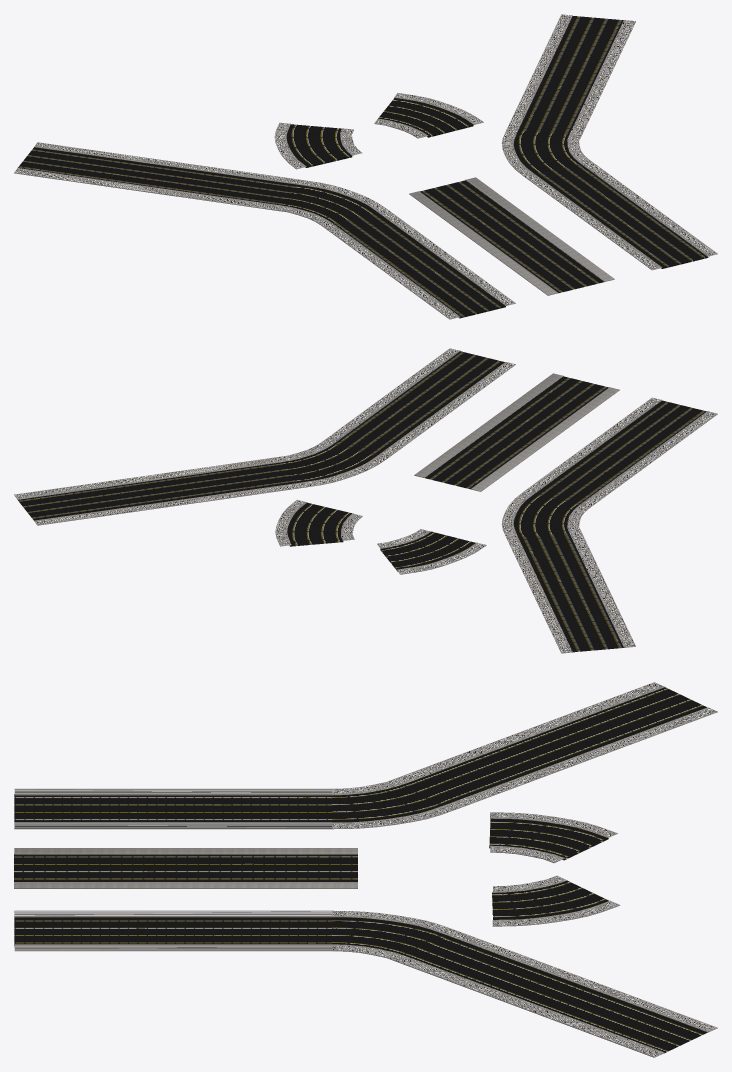
Rendered from Calles Correjidas.FBX.
3 renders of one model, top to bottom at view 1: azimuth 30°, elevation 25°; view 2: azimuth 150°, elevation 25°; view 3: azimuth 270°, elevation 25°, orthographic. The views are drawn at different scales.
Parts seen in each view (by area): view 1: Plane003, Plane005, Plane009, Plane004, Plane007, Calle Recta + Curva Izquierda + calle Recta, Calle Recta + Curva Derecha + calle Recta, ChamferBox034, ChamferBox035, Plane010, Plane011, Plane006 (+6 smaller); view 2: Plane003, Plane009, Plane005, Plane004, Plane007, Calle Recta + Curva Derecha + calle Recta, Calle Recta + Curva Izquierda + calle Recta, ChamferBox035, ChamferBox034, Plane011, Plane010, Plane006 (+6 smaller); view 3: Plane003, Plane005, Plane009, Plane007, Plane004, Calle Recta + Curva Izquierda + calle Recta, Calle Recta + Curva Derecha + calle Recta, ChamferBox035, ChamferBox034, Plane010, Plane008, Plane006 (+6 smaller).
Boxes of the visible parts, left/top/right/bottom form: Plane003: left=420, top=180, right=603, bottom=293; Plane005: left=18, top=147, right=297, bottom=205; Plane009: left=518, top=16, right=623, bottom=135; Plane004: left=333, top=212, right=505, bottom=318; Plane007: left=534, top=163, right=708, bottom=268; Calle Recta + Curva Izquierda + calle Recta: left=14, top=142, right=386, bottom=225; Calle Recta + Curva Derecha + calle Recta: left=501, top=14, right=635, bottom=175; ChamferBox034: left=321, top=209, right=515, bottom=319; ChamferBox035: left=523, top=159, right=717, bottom=270; Plane010: left=286, top=124, right=352, bottom=167; Plane011: left=378, top=98, right=473, bottom=137; Plane006: left=281, top=185, right=376, bottom=222; Plane003: left=425, top=376, right=608, bottom=489; Plane009: left=18, top=462, right=296, bottom=520; Plane005: left=518, top=532, right=624, bottom=652; Plane004: left=534, top=400, right=706, bottom=505; Plane007: left=333, top=351, right=504, bottom=456; Calle Recta + Curva Derecha + calle Recta: left=14, top=442, right=387, bottom=525; Calle Recta + Curva Izquierda + calle Recta: left=501, top=491, right=635, bottom=653; ChamferBox035: left=321, top=348, right=515, bottom=458; ChamferBox034: left=524, top=397, right=717, bottom=507; Plane011: left=287, top=502, right=351, bottom=546; Plane010: left=380, top=531, right=475, bottom=571; Plane006: left=513, top=494, right=578, bottom=536; Plane003: left=14, top=854, right=357, bottom=881; Plane005: left=407, top=687, right=706, bottom=803; Plane009: left=408, top=936, right=707, bottom=1053; Plane007: left=14, top=917, right=332, bottom=946; Plane004: left=14, top=795, right=332, bottom=822; Calle Recta + Curva Izquierda + calle Recta: left=332, top=682, right=717, bottom=829; Calle Recta + Curva Derecha + calle Recta: left=332, top=910, right=717, bottom=1057; ChamferBox035: left=14, top=910, right=332, bottom=951; ChamferBox034: left=14, top=788, right=332, bottom=829; Plane010: left=489, top=818, right=608, bottom=860; Plane008: left=331, top=917, right=449, bottom=956; Plane006: left=331, top=783, right=448, bottom=822.
Size of the model in its own units: 16566 by 46.18 by 13135.
Materials: 3 (3 with a texture image).
